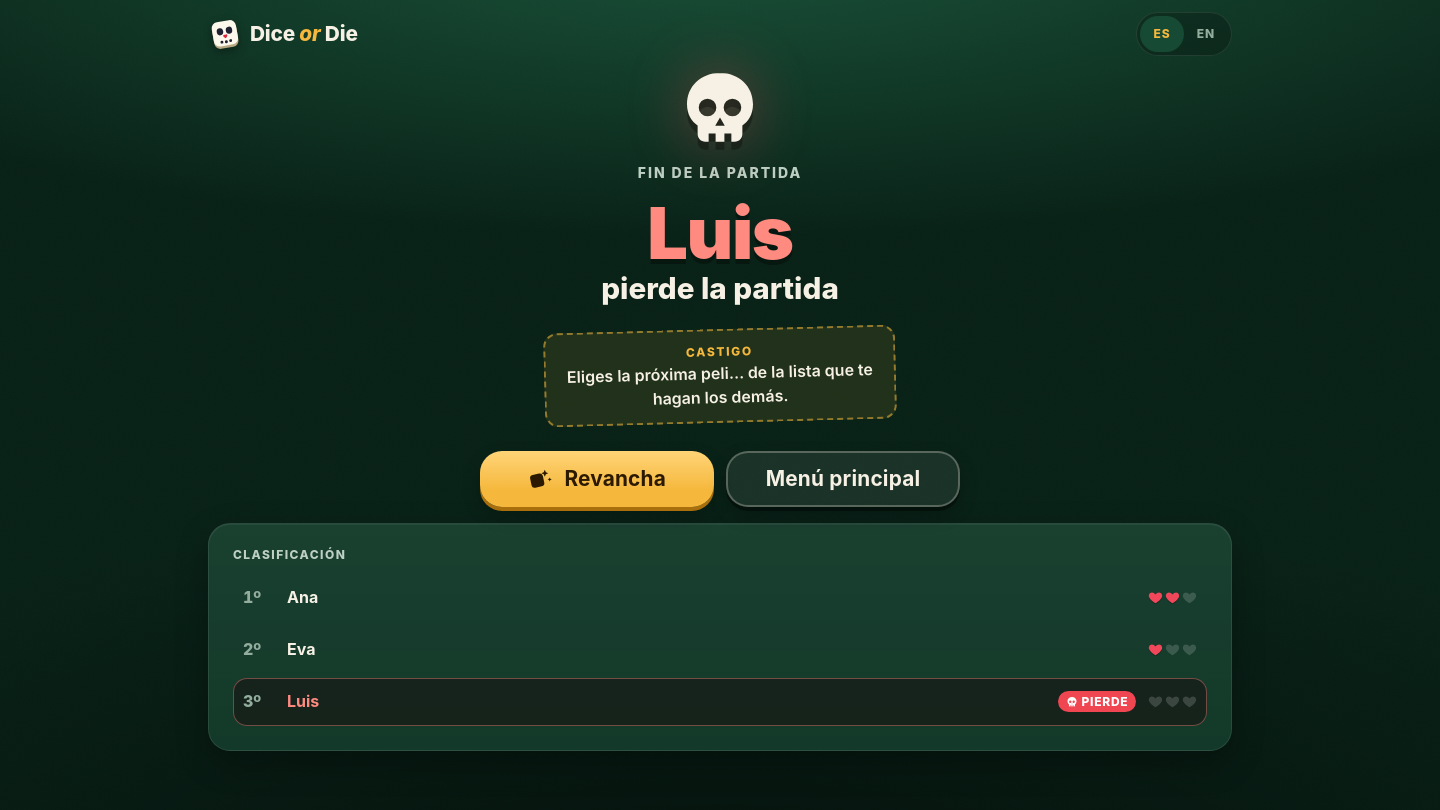
Test: revancha crea una partida nueva con los mismos nombres
Click the button "Revancha": (597, 479) left=480, top=451, right=714, bottom=507
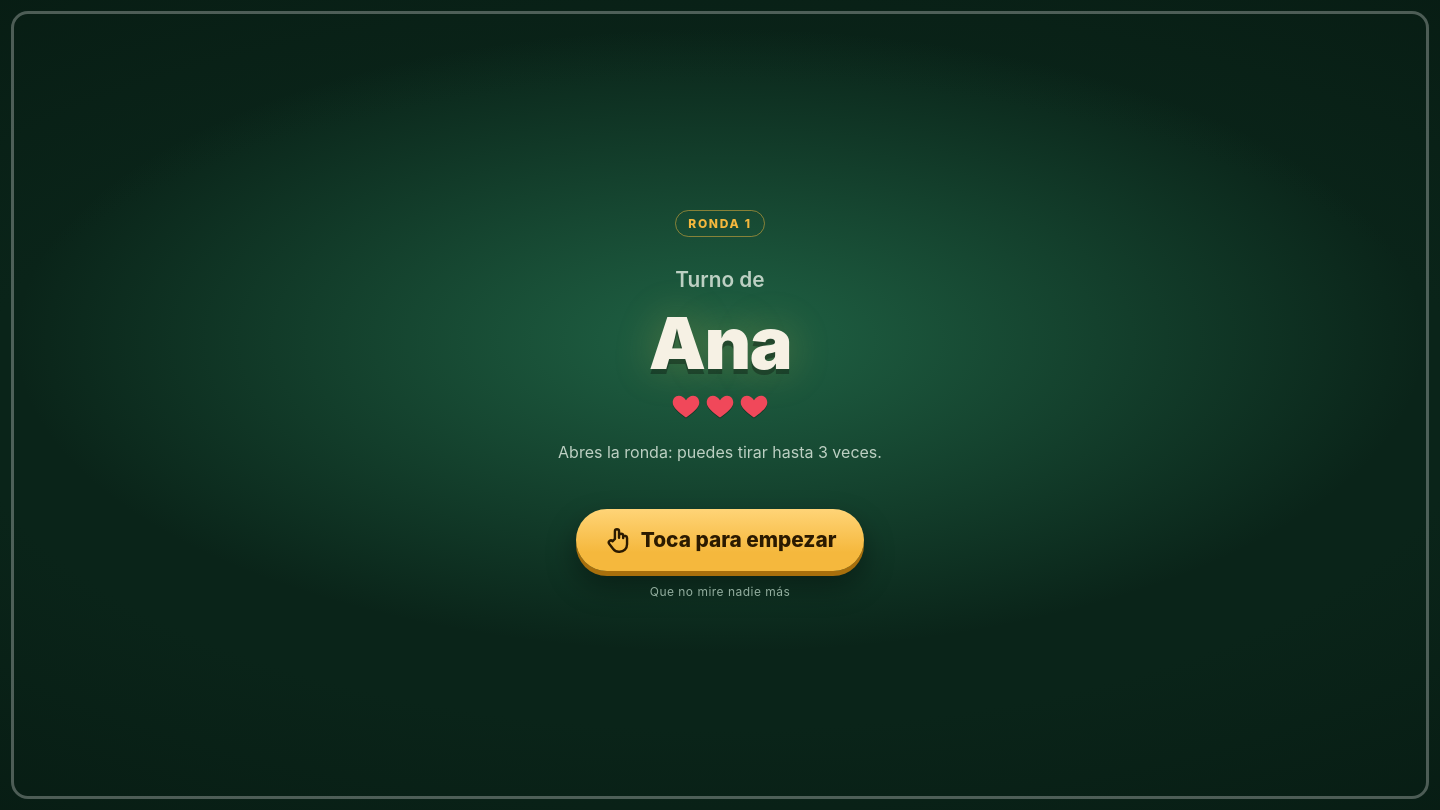
Check: the text "Toca para empezar" is shown, box left=641, top=525, right=836, bottom=555
